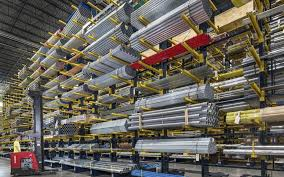Pallet Jack: (9, 87, 58, 177)
